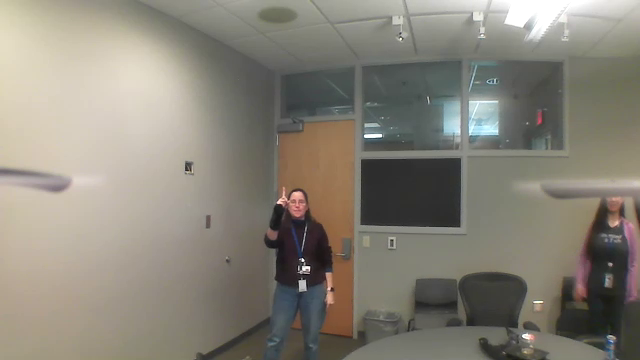up: (274, 183, 291, 211)
